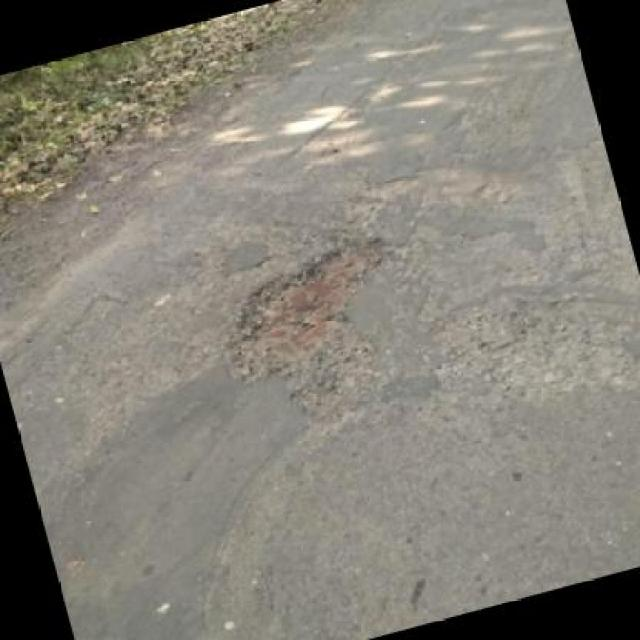pothole1: (210, 225, 418, 387)
